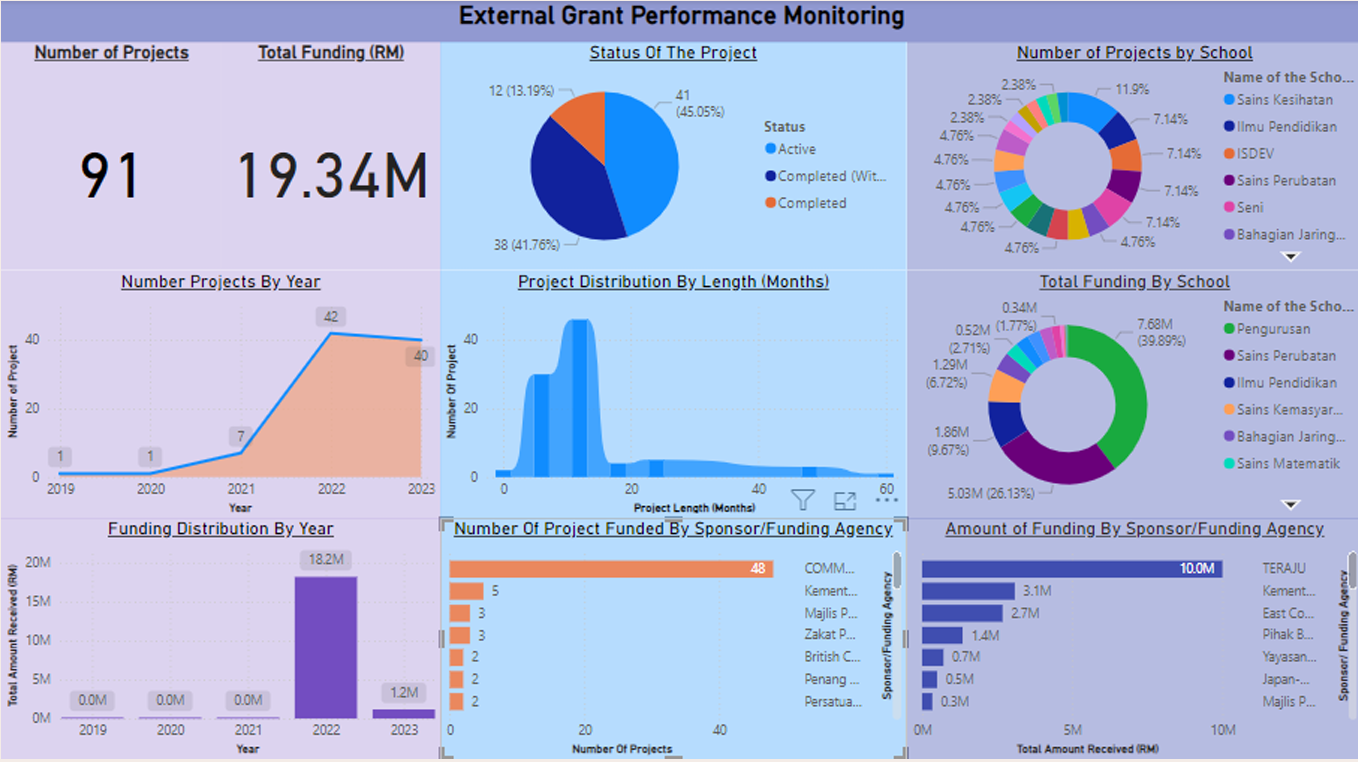

This screenshot's page, from the dashboard's own definition file:
{"tool":"powerbi","page":{"name":"Page 1","canvas":[1280,720],"ordinal":0},"visuals":[{"type":"barChart","title":"Number Of Project Funded By Sponsor/Funding Agency","fields":{"Category":["Sheet1.Sponsor/ Funding Agency"],"Y":["CountNonNull(Sheet1.No.)"]},"box":[412.8,492.2,438.8,227.9],"z":0},{"type":"areaChart","title":"Number Projects By Year","fields":{"Category":["Sheet1.Start Date.Variation.Date Hierarchy.Year"],"Y":["CountNonNull(Sheet1.Start Date)"]},"box":[0,259.1,412.8,233.1],"z":1000},{"type":"pieChart","title":"Status Of The Project ","fields":{"Category":["Sheet1.Prjoect's Status"],"Y":["CountNonNull(Sheet1.Prjoect's Status)"]},"box":[412.8,44.3,438.8,214.9],"z":2000},{"type":"ribbonChart","title":"Project Distribution By Length (Months)","fields":{"Category":["Sheet1.Length of Project (Months) (bins)"],"Y":["CountNonNull(Sheet1.No.)"]},"box":[412.8,259.1,438.8,233.1],"z":3000},{"type":"donutChart","title":"Number of Projects by School","fields":{"Category":["Sheet1.Name of the School"],"Y":["Divide(Count(Sheet1.Project Title), ScopedEval(Count(Sheet1.Project Title), []))"]},"box":[851.6,44.3,428.4,214.9],"z":4000},{"type":"donutChart","title":"Total Funding By School","fields":{"Category":["Sheet1.Name of the School"],"Y":["Sum(Sheet1.Total Allocation received in the year assessed (RM))"]},"box":[851.6,259.1,428.4,233.1],"z":5000},{"type":"card","title":"Number of Projects","fields":{"Values":["Count(Sheet1.Project Title)"]},"box":[0,44.3,207,214.9],"z":6000},{"type":"card","title":"Total Funding (RM)","fields":{"Values":["Sum(Sheet1.Total Funding from Community/Industry)"]},"box":[207,44.3,205.7,214.9],"z":7000},{"type":"clusteredColumnChart","title":"Funding Distribution By Year","fields":{"Category":["Sheet1.Start Date.Variation.Date Hierarchy.Year"],"Y":["Sum(Sheet1.Total Funding from Community/Industry)"]},"box":[0,492.2,412.8,227.9],"z":8000},{"type":"barChart","title":"Amount of Funding By Sponsor/Funding Agency","fields":{"Category":["Sheet1.Sponsor/ Funding Agency"],"Y":["Sum(Sheet1.Total Funding from Community/Industry)"]},"box":[851.6,492.2,428.4,227.9],"z":9000},{"type":"textbox","box":[0,0,1280,44.3],"z":10000}]}

Visuals, with their boxes in screenshot pixels (x1, y1, x2, y2), scaled from the page's 1280x720 canvas onto the 1358x762 screenshot:
"Number Of Project Funded By Sponsor/Funding Agency" barChart: {"x1": 438, "y1": 521, "x2": 903, "y2": 761}
"Number Projects By Year" areaChart: {"x1": 0, "y1": 274, "x2": 438, "y2": 521}
"Status Of The Project " pieChart: {"x1": 438, "y1": 47, "x2": 903, "y2": 274}
"Project Distribution By Length (Months)" ribbonChart: {"x1": 438, "y1": 274, "x2": 903, "y2": 521}
"Number of Projects by School" donutChart: {"x1": 903, "y1": 47, "x2": 1357, "y2": 274}
"Total Funding By School" donutChart: {"x1": 903, "y1": 274, "x2": 1357, "y2": 521}
"Number of Projects" card: {"x1": 0, "y1": 47, "x2": 220, "y2": 274}
"Total Funding (RM)" card: {"x1": 220, "y1": 47, "x2": 438, "y2": 274}
"Funding Distribution By Year" clusteredColumnChart: {"x1": 0, "y1": 521, "x2": 438, "y2": 761}
"Amount of Funding By Sponsor/Funding Agency" barChart: {"x1": 903, "y1": 521, "x2": 1357, "y2": 761}
textbox: {"x1": 0, "y1": 0, "x2": 1357, "y2": 47}
